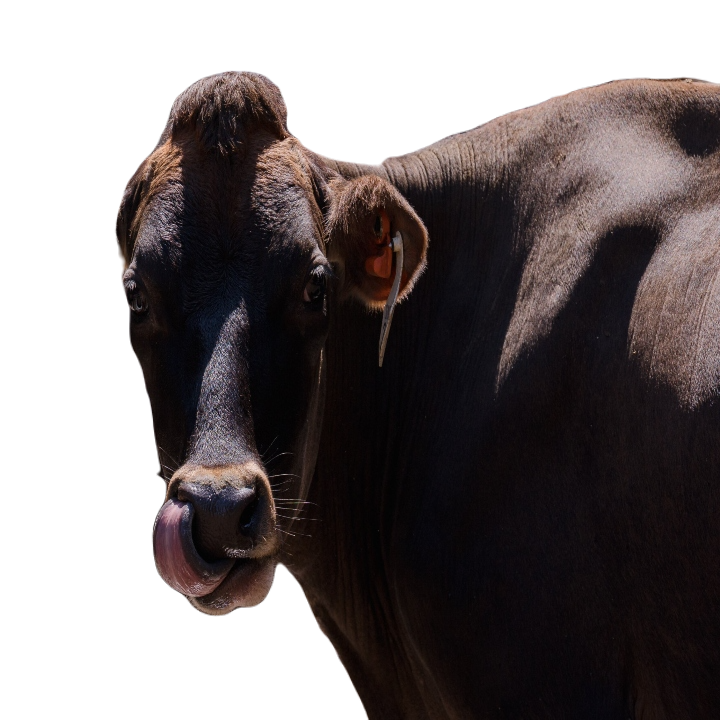Cow: (114, 70, 719, 719)
